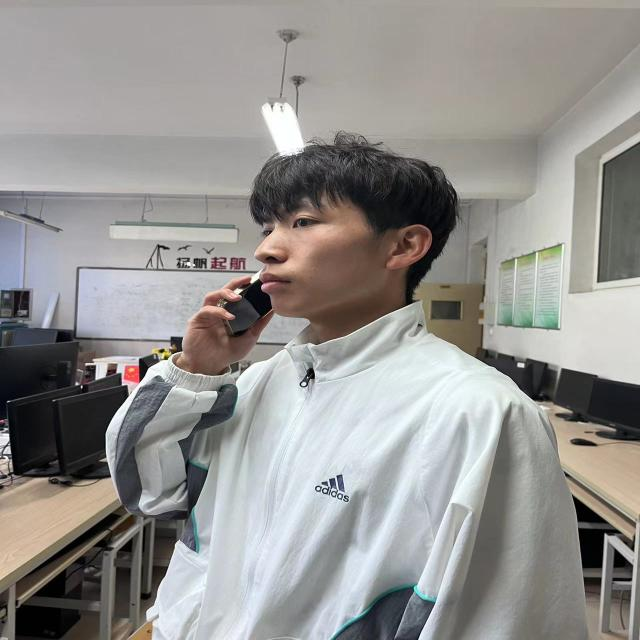phone: (218, 272, 275, 337)
